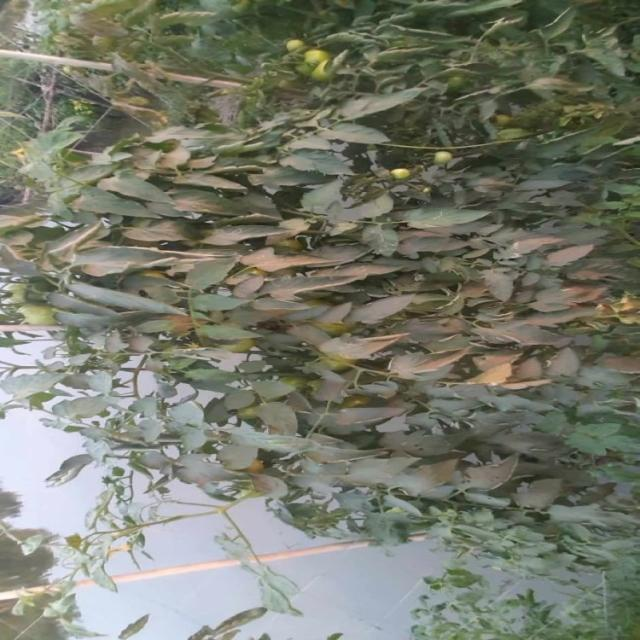tomato: (13, 277, 53, 329), (279, 34, 306, 62), (433, 148, 460, 170), (300, 50, 325, 72), (390, 162, 408, 187)
